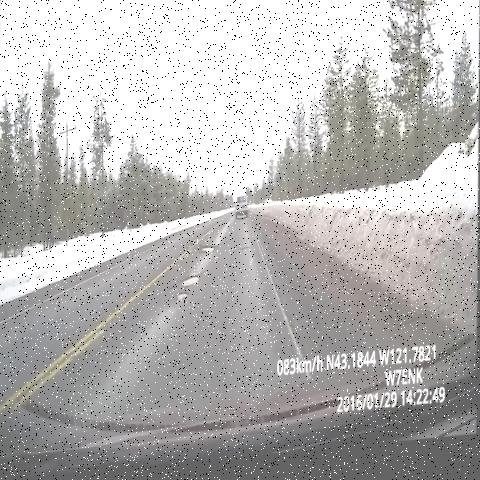pothole: (193, 243, 220, 269), (184, 270, 205, 297), (235, 240, 257, 264), (171, 293, 191, 315), (163, 283, 183, 302)
